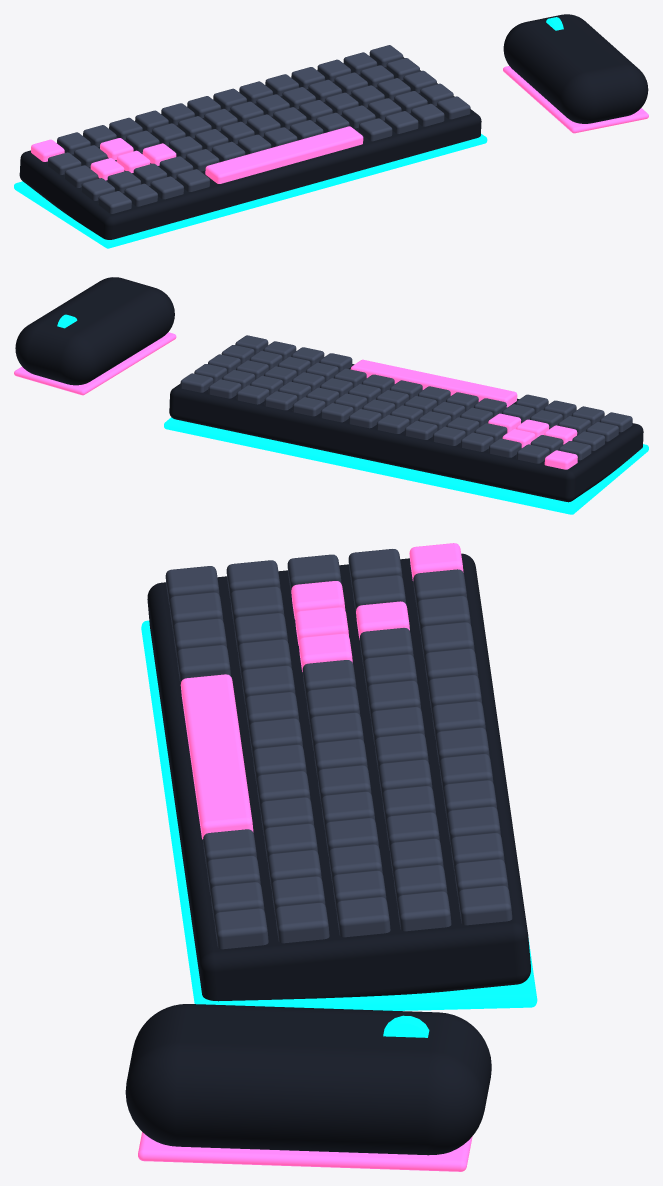
The model's file is atelier-gaming-peripherals-cyber.glb.
3 renders of one model, top to bottom at view 1: azimuth 30°, elevation 25°; view 2: azimuth 150°, elevation 25°; view 3: azimuth 270°, elevation 25°, orthographic. The views are drawn at different scales.
Size of the model in its own units: 0.4266 by 0.0428 by 0.1346.
